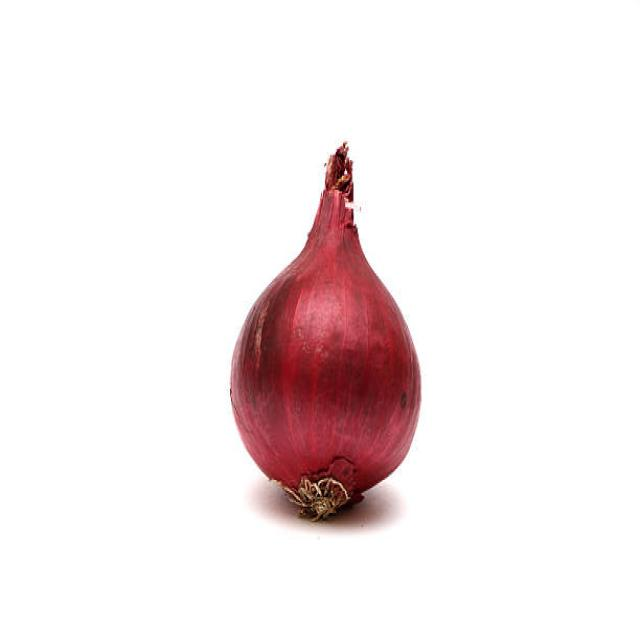onion: (225, 237, 424, 522)
